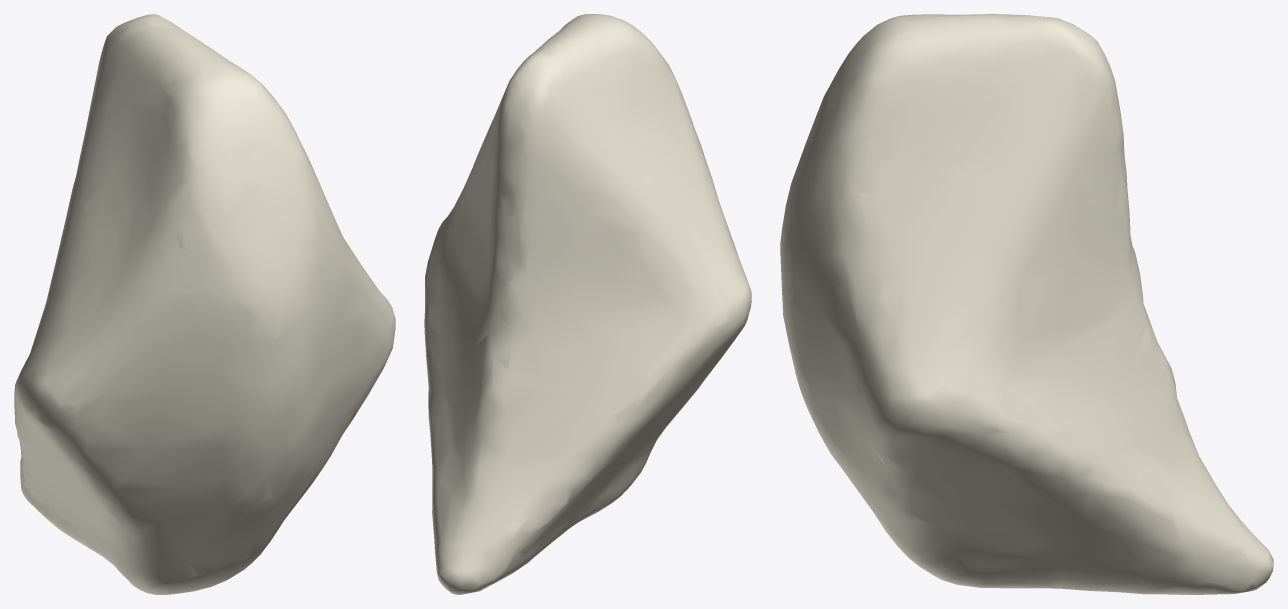
File: fma59430_mm910.glb
The picture shows the model from 3 angles, left to right: view 1: azimuth 30°, elevation 25°; view 2: azimuth 150°, elevation 25°; view 3: azimuth 270°, elevation 25°; orthographic projection. The views are drawn at different scales.
Parts seen in each view (by area): view 1: FMA59430_MM910; view 2: FMA59430_MM910; view 3: FMA59430_MM910.
Boxes of the visible parts, left/top/right/bottom form: FMA59430_MM910: left=14, top=14, right=395, bottom=594; FMA59430_MM910: left=424, top=14, right=751, bottom=594; FMA59430_MM910: left=780, top=14, right=1273, bottom=594.
Bounding box in the file's own units: 0.00704 × 0.0105 × 0.00818.
